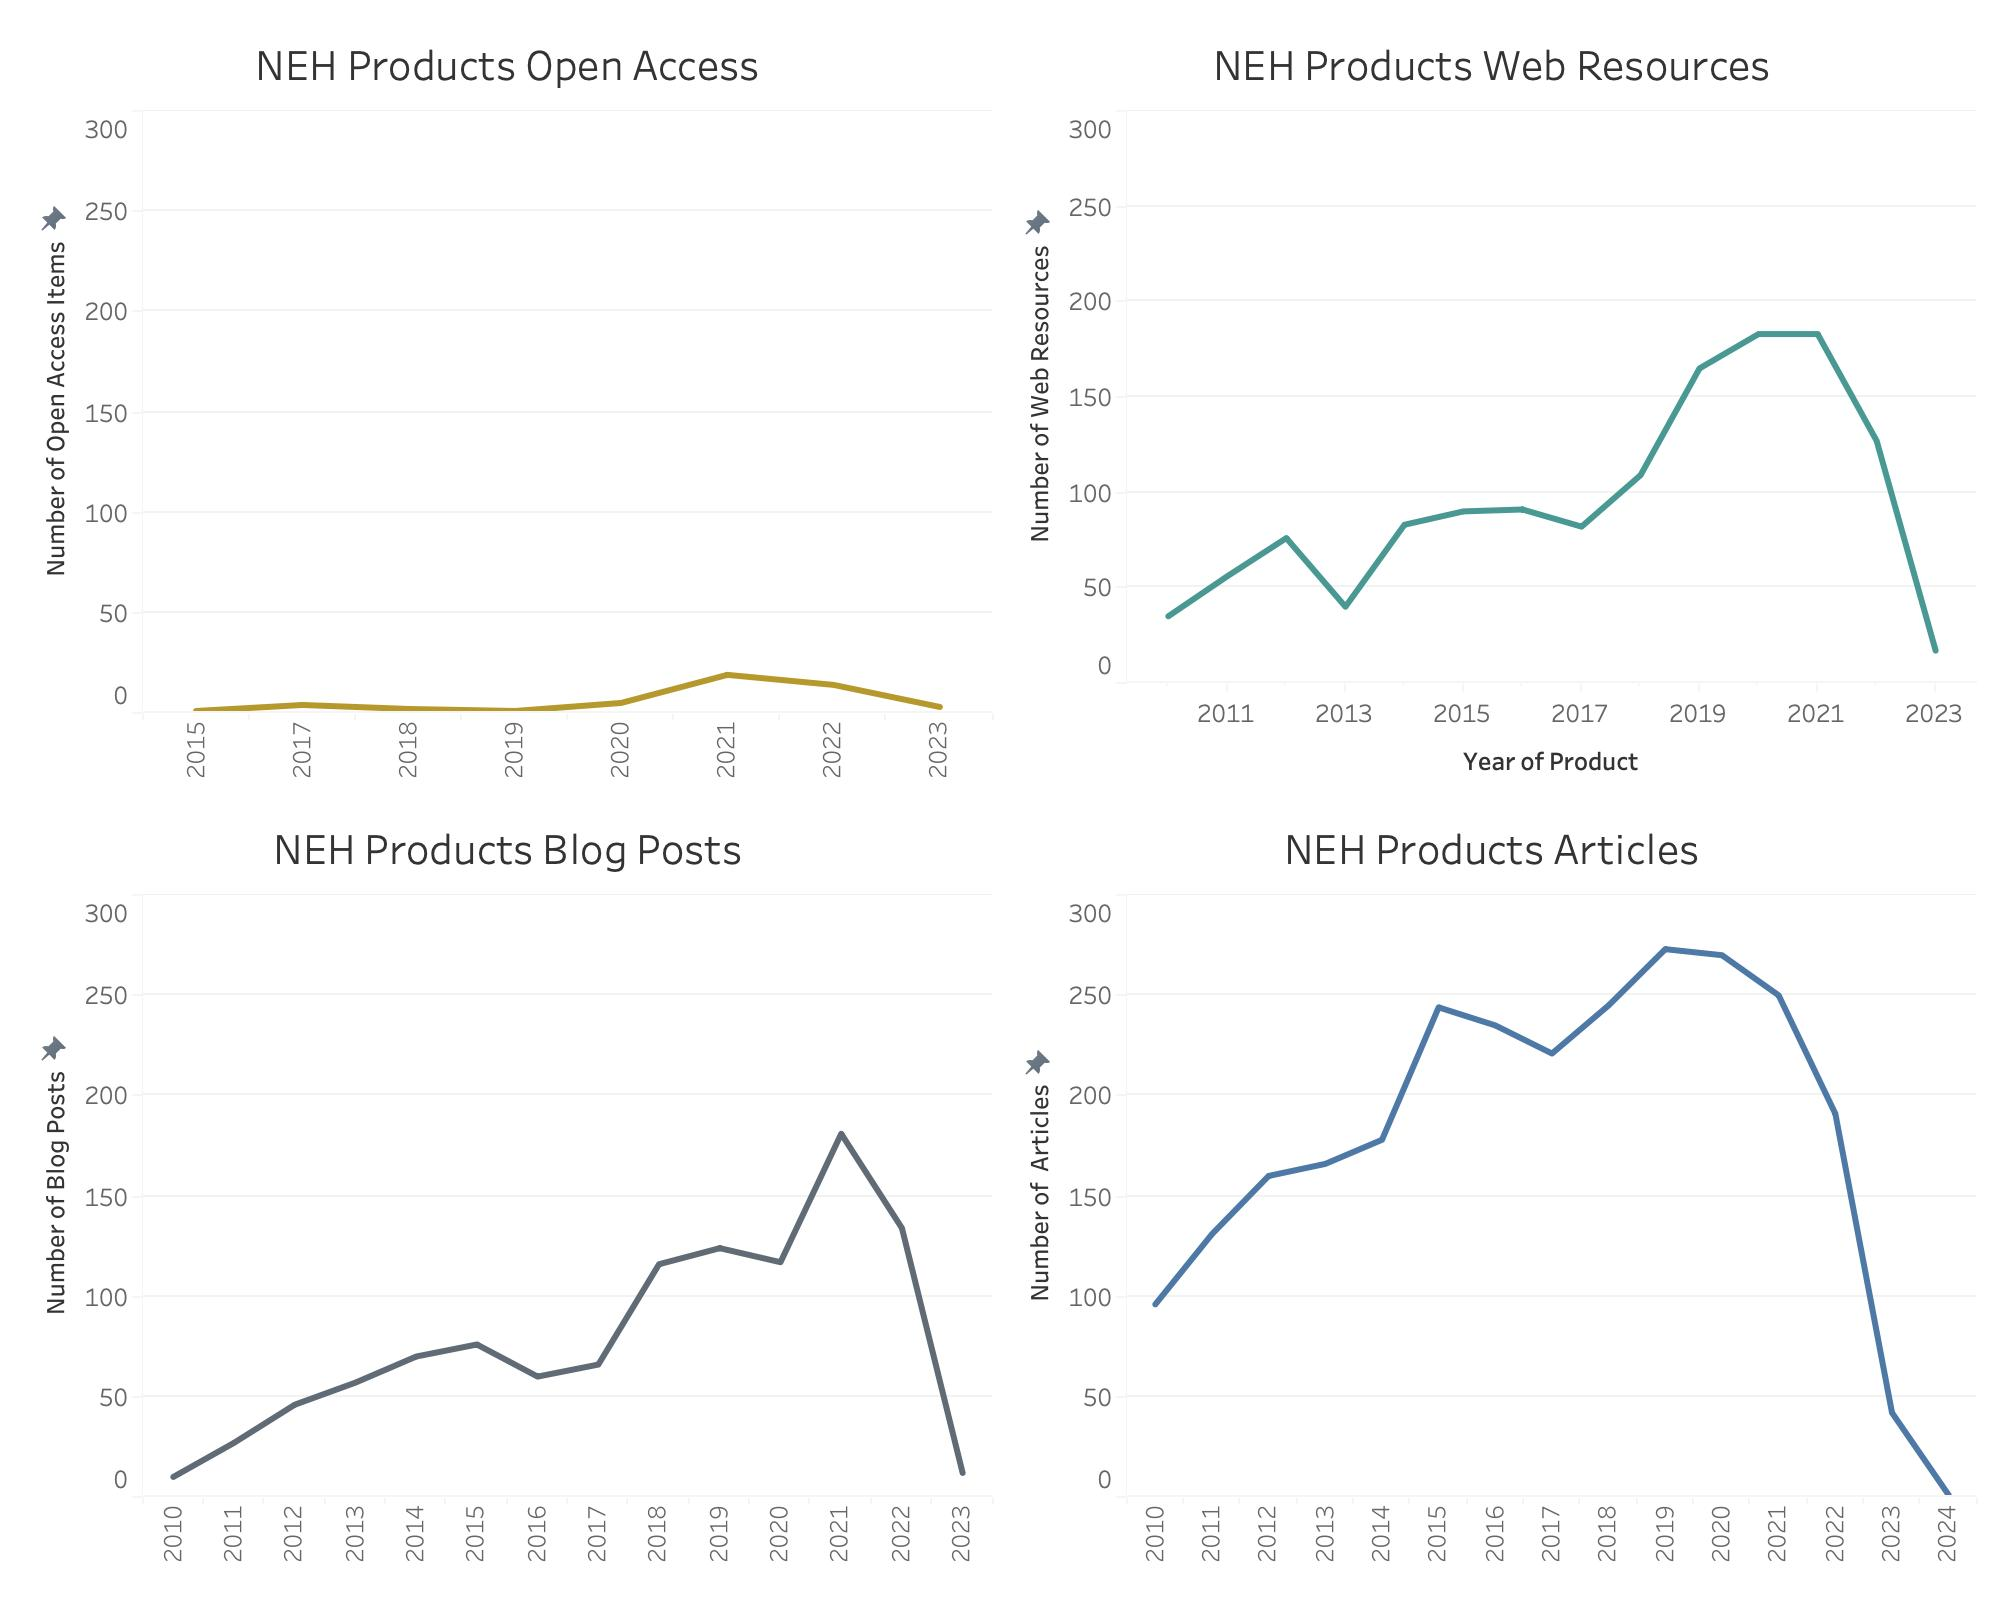

The dashboard page shown, as its layout file describes it:
{"tool":"tableau","page":{"name":"Small Multiples for Product Type","canvas":[1000,800],"ordinal":2},"visuals":[{"type":"worksheet","title":"NEH Products Open Access","mark":"Automatic","rows":["NEH_OpenAccessItems.csv_BC579A7CE9B1418BA59D9BCAA7A04FA0"],"cols":["F22"],"box":[8,8,492,392]},{"type":"worksheet","title":"NEH Products Web Resources","mark":"Line","rows":["NEH_WebResources.csv_CEFE4EFCD40A4DDCBA712AB78DB3313C"],"cols":["F10"],"box":[500,8,492,392]},{"type":"worksheet","title":"NEH Products Blog Posts","mark":"Automatic","rows":["NEH_BlogPosts.csv_D6D149551B534C39B99E799D382F4FF1"],"cols":["F6 (NEH_BlogPosts.csv)"],"box":[8,400,492,392]},{"type":"worksheet","title":"NEH Products Articles","mark":"Automatic","rows":["NEH_Articles.csv_23F40BAC84924AD4AA1ABFF68FE9B650"],"cols":["F14 (NEH_Articles.csv)"],"box":[500,400,492,392]}]}

Visuals, with their boxes in screenshot pixels (x1, y1, x2, y2), scaled from the page's 1000x800 canvas onto the 2000x1600 screenshot:
"NEH Products Open Access" worksheet: [16,16,1000,800]
"NEH Products Web Resources" worksheet (Line marks): [1000,16,1984,800]
"NEH Products Blog Posts" worksheet: [16,800,1000,1584]
"NEH Products Articles" worksheet: [1000,800,1984,1584]
